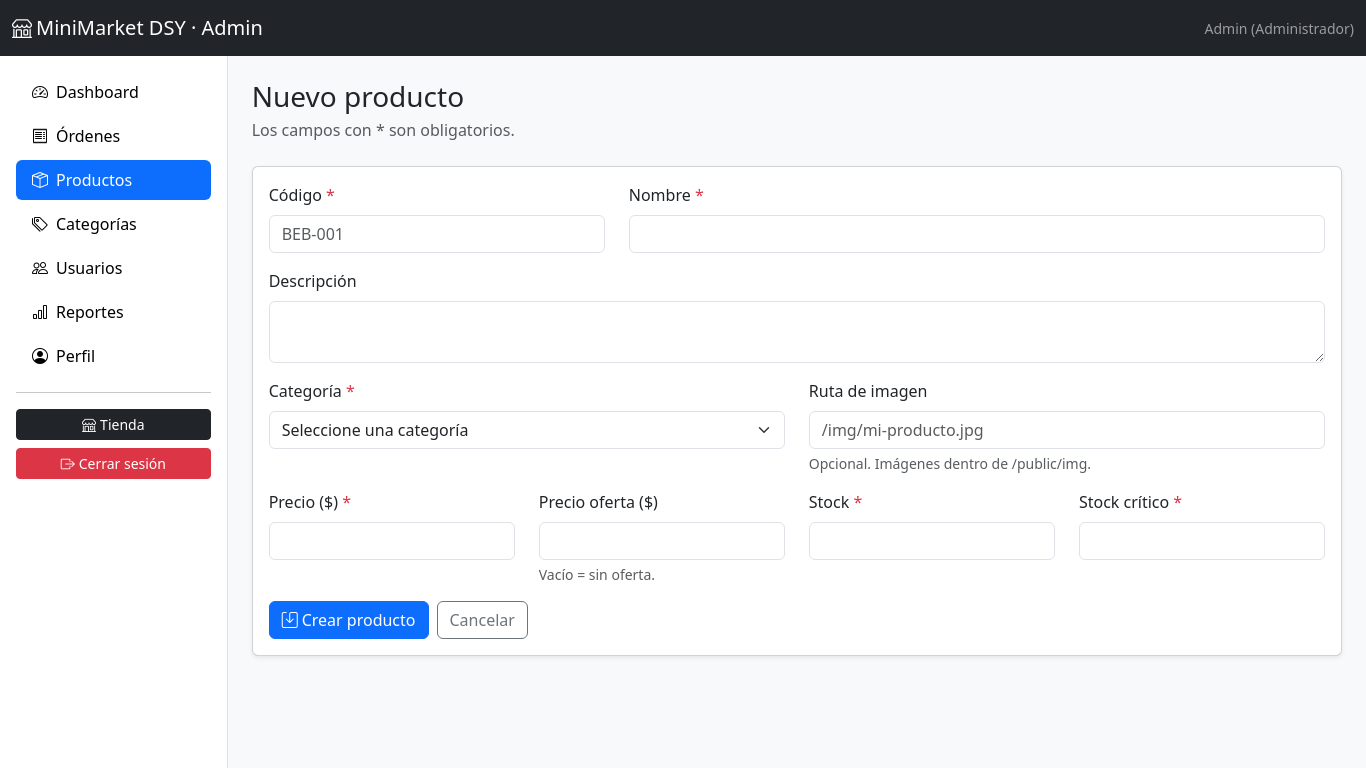
Test: Panel administrador › crea un producto nuevo y lo muestra en su detalle
In the field labelled "Código *": x=437, y=234 top-left (269, 215), bottom-right (605, 253), type "CON-001"
In the field labelled "Nombre *": x=977, y=234 top-left (629, 215), bottom-right (1325, 253), type "Helado 1 L"
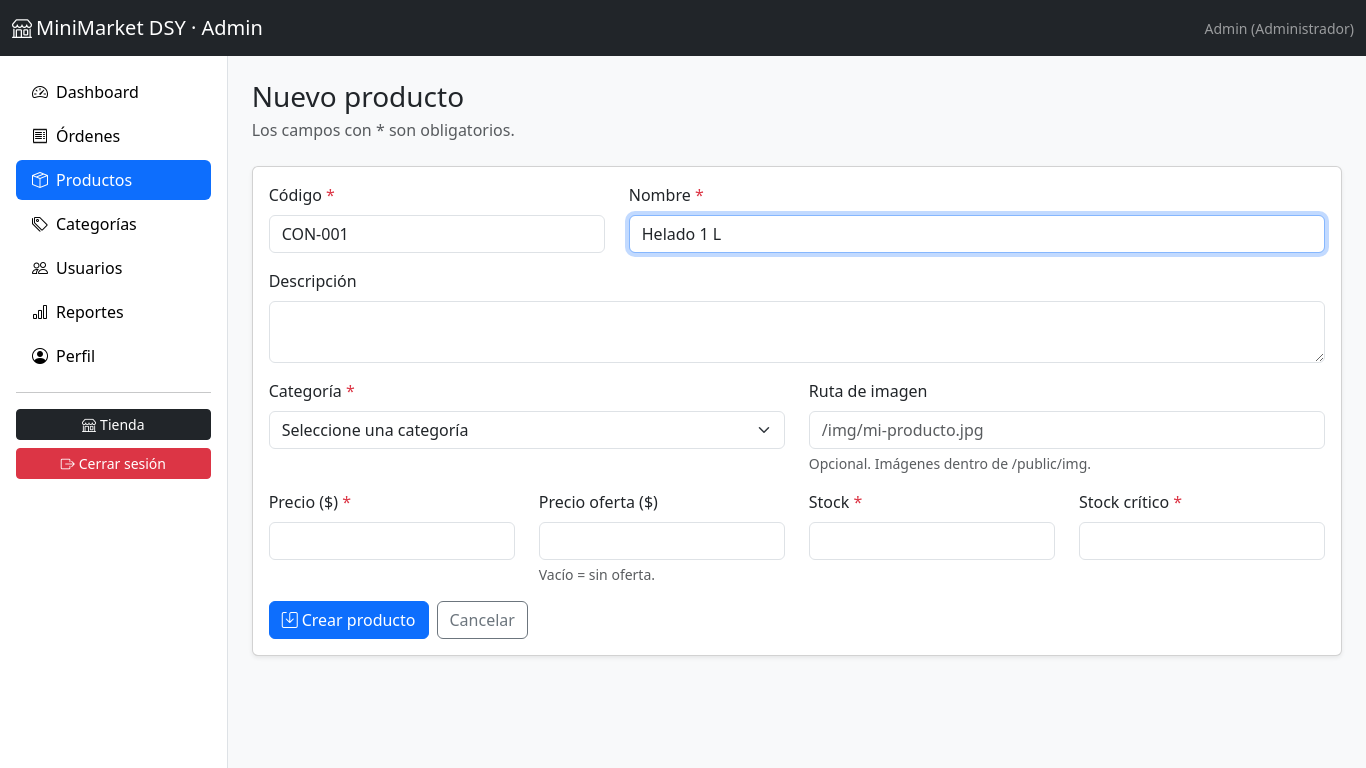
Select "Lácteos y Cecinas" in the dropdown labelled "Categoría *": x=527, y=430 top-left (269, 411), bottom-right (785, 449)
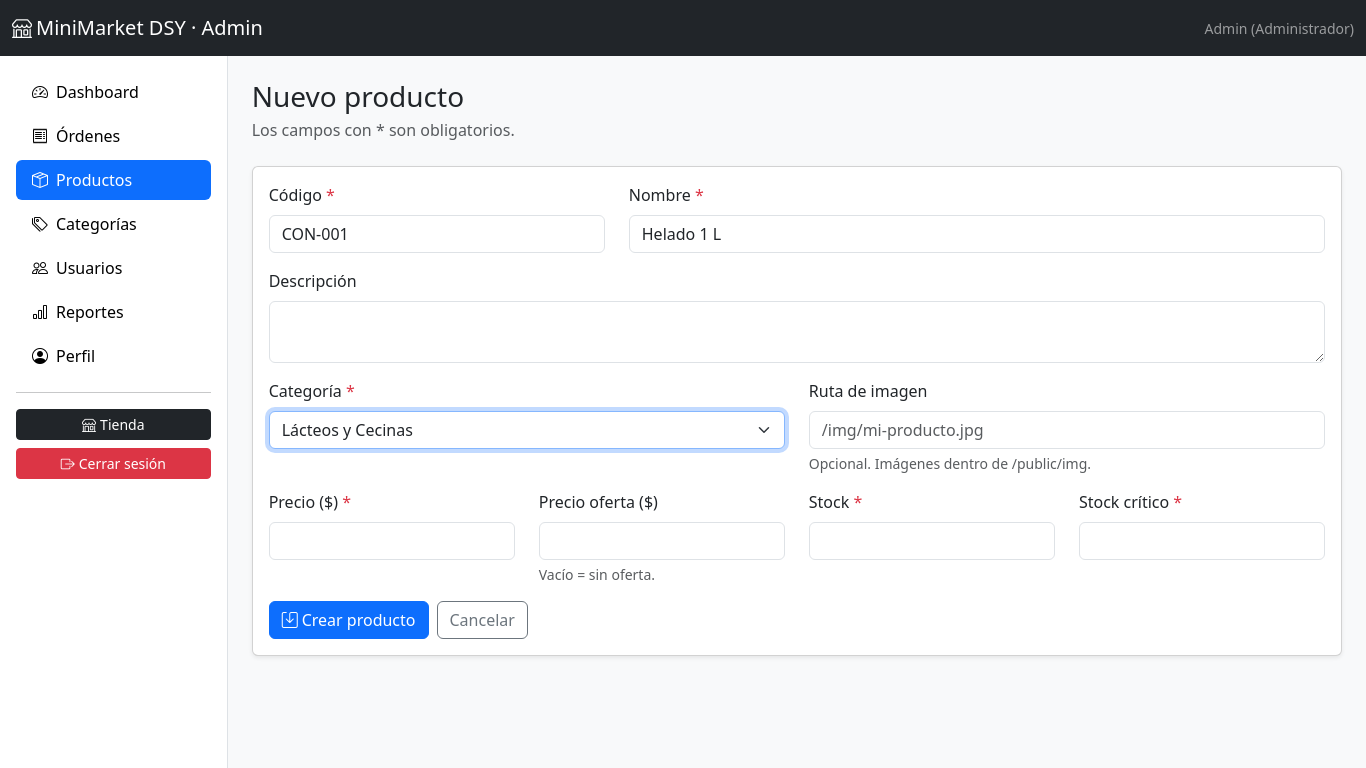
In the number field labelled "Precio ($) *": x=392, y=541 top-left (269, 522), bottom-right (515, 560), type "3500"
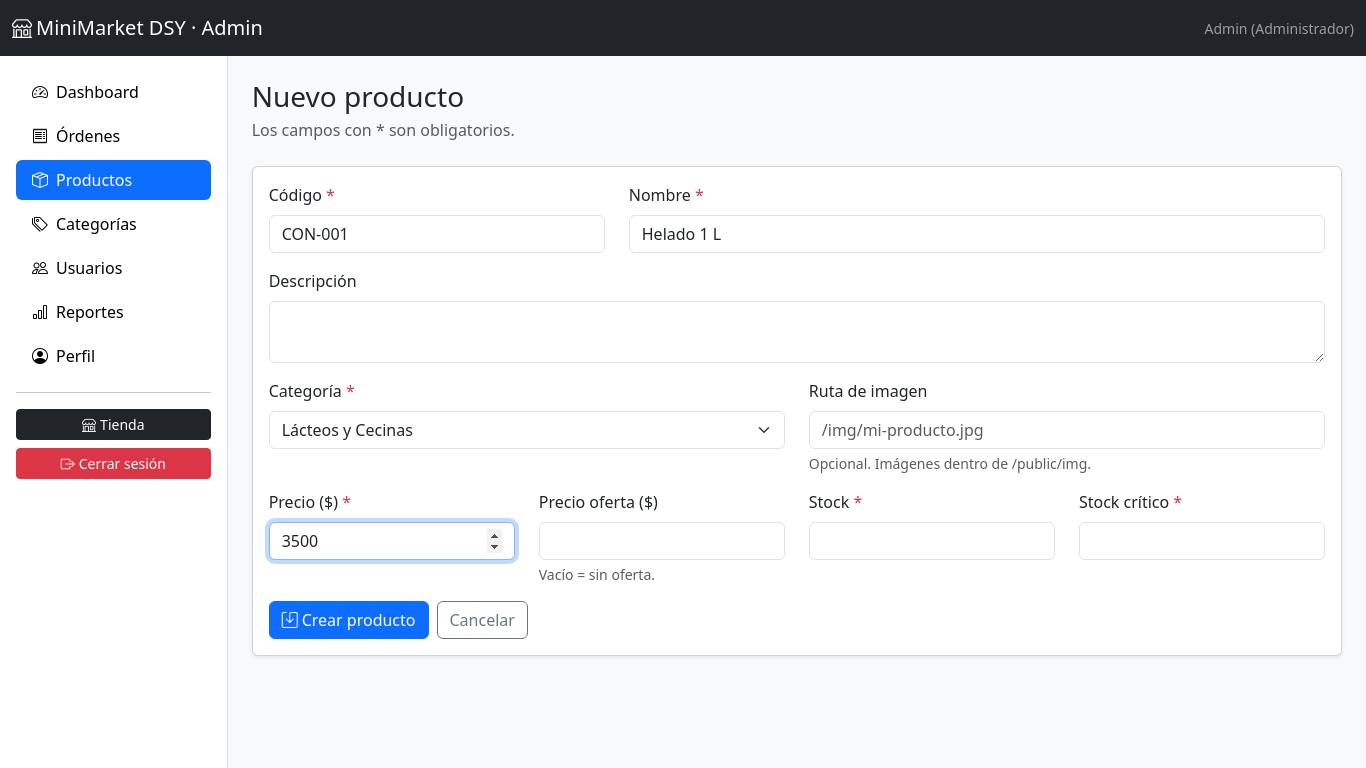
In the number field labelled "Stock *": x=932, y=541 top-left (809, 522), bottom-right (1055, 560), type "8"
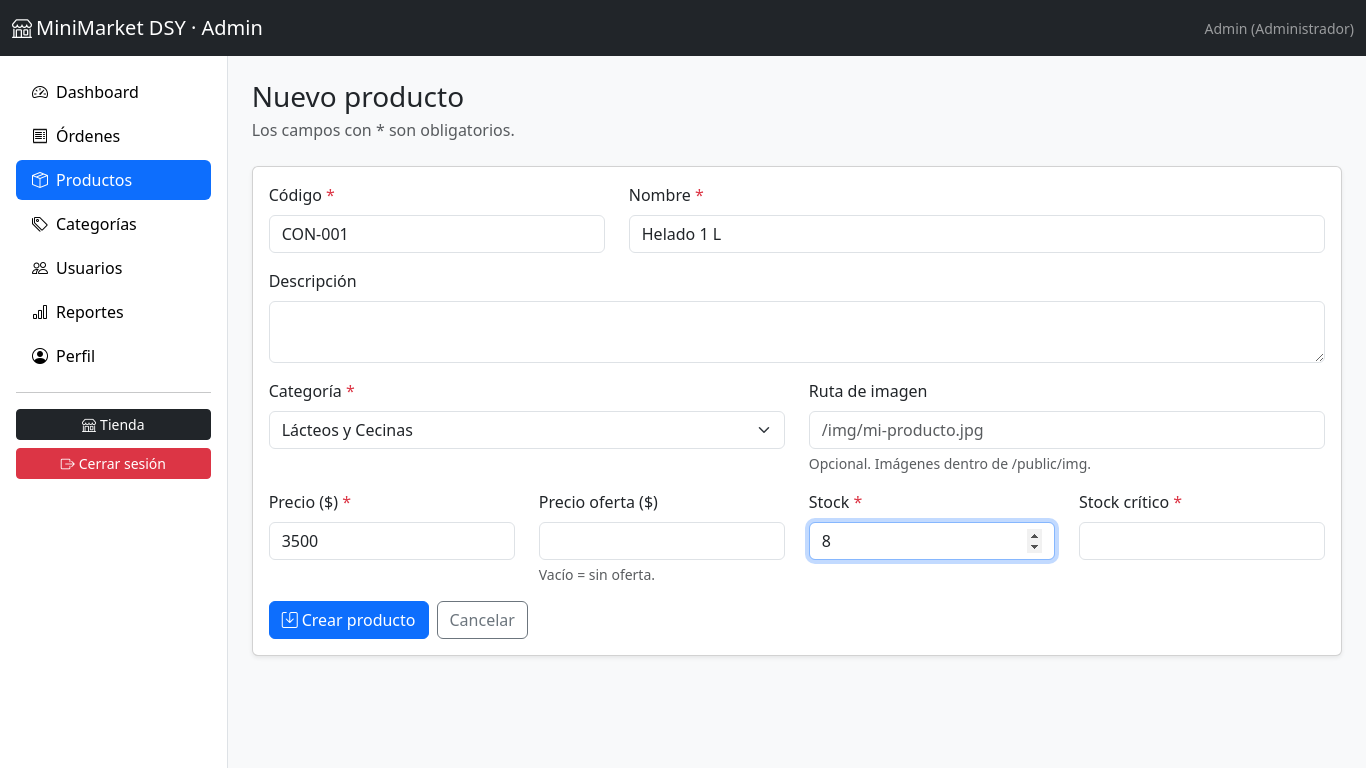
In the number field labelled "Stock crítico *": x=1202, y=541 top-left (1079, 522), bottom-right (1325, 560), type "2"
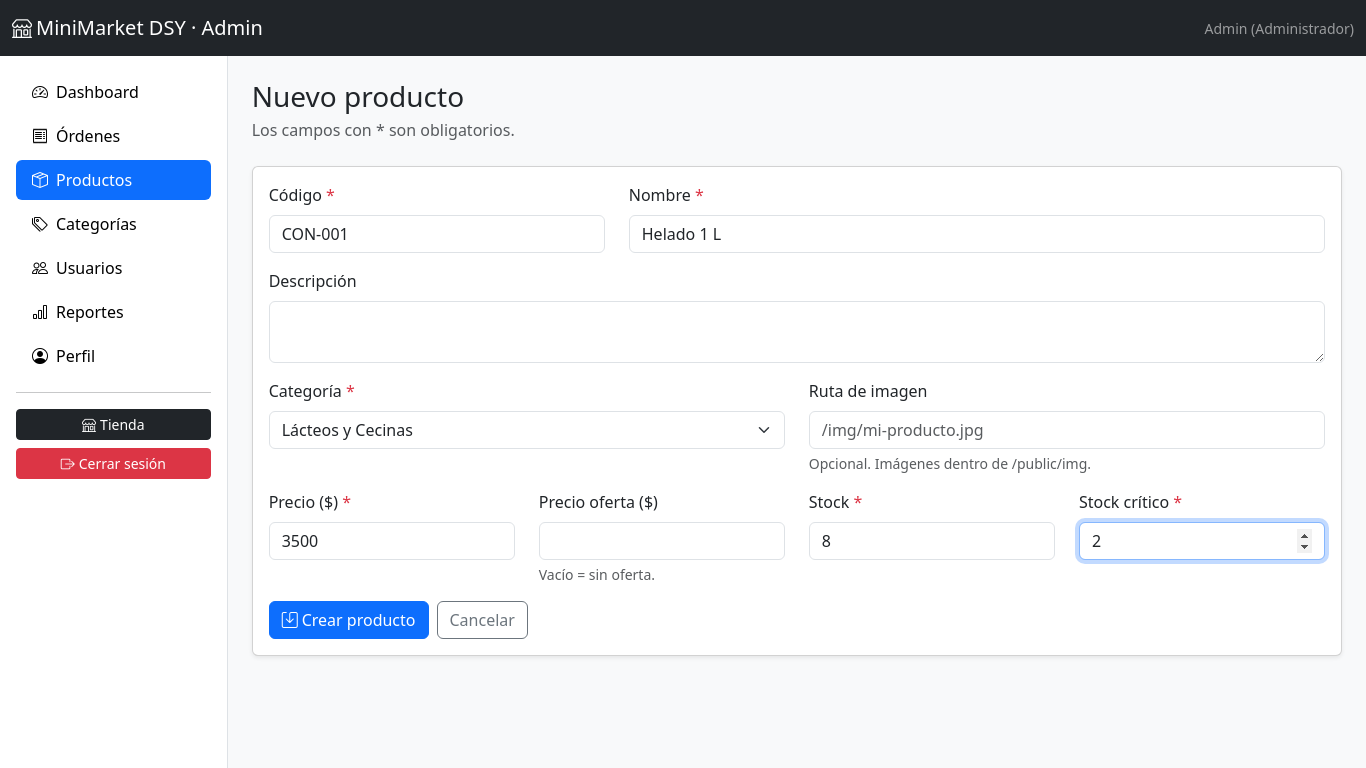
Click the button "Crear producto": x=349, y=620 top-left (269, 601), bottom-right (428, 639)
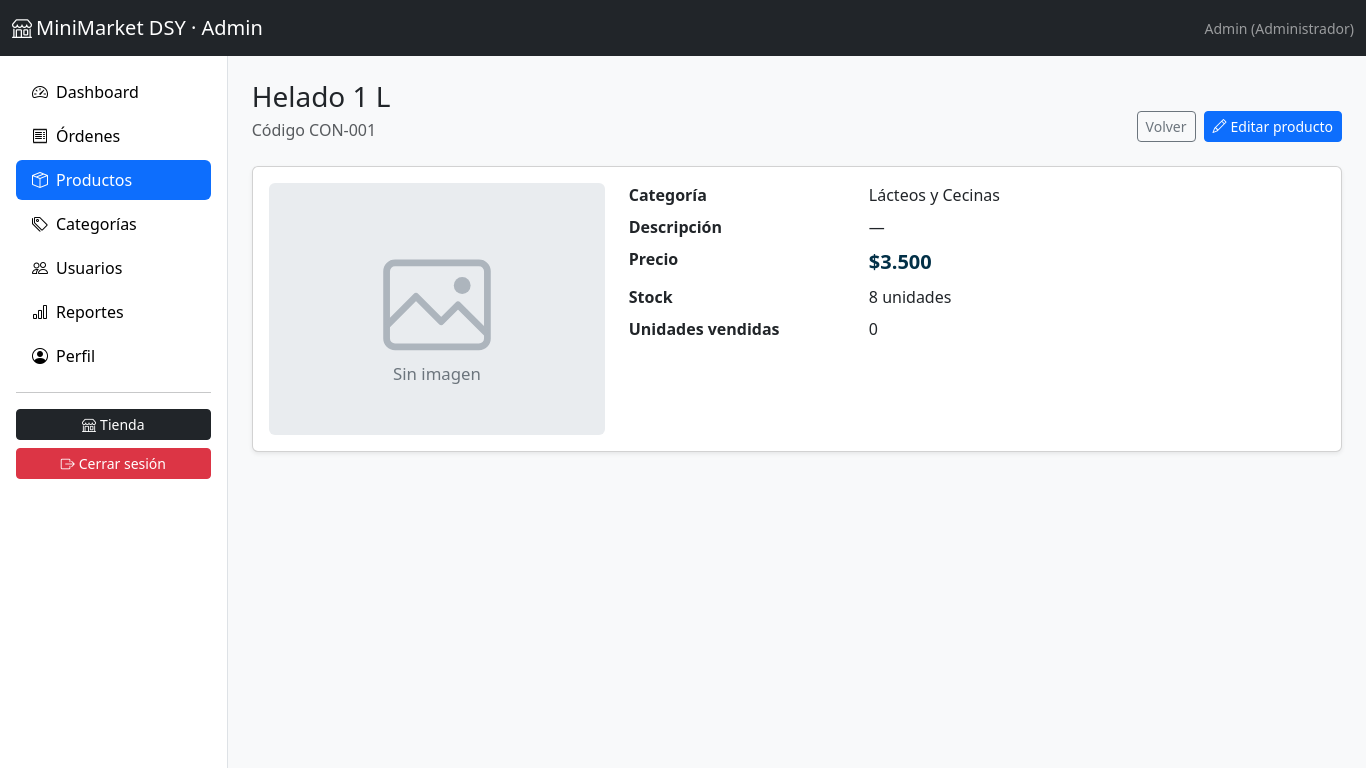
Check: the heading reads "Helado 1 L", box top-left (252, 77), bottom-right (391, 115)
